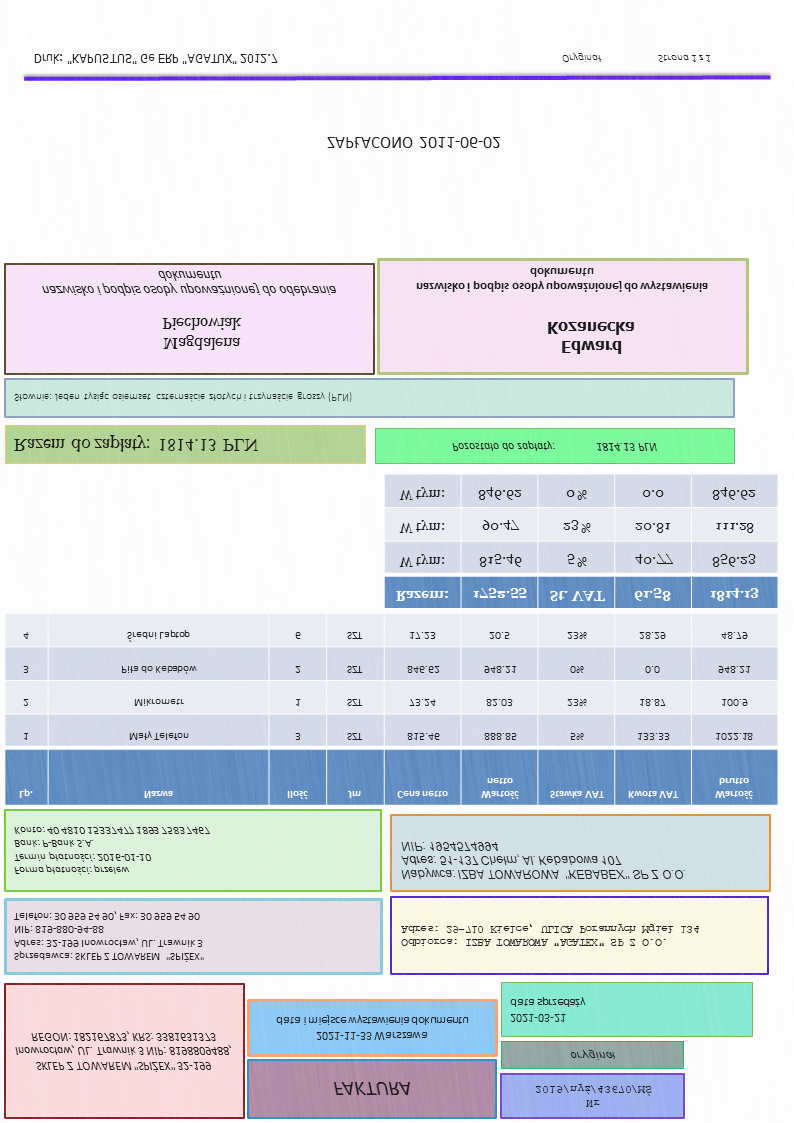Table: (1, 612, 780, 808), (382, 471, 781, 608)
TextBox: (395, 837, 692, 887), (10, 819, 213, 880), (10, 908, 206, 966), (412, 262, 713, 299), (10, 1027, 236, 1075), (397, 918, 704, 953), (37, 268, 341, 301), (8, 387, 357, 412), (272, 1013, 472, 1047), (8, 432, 258, 459), (27, 45, 281, 70), (322, 127, 508, 158), (448, 436, 663, 459), (544, 314, 638, 363), (532, 1078, 656, 1112), (158, 311, 244, 355), (505, 990, 588, 1030), (557, 50, 714, 70), (329, 1077, 412, 1102), (567, 1046, 619, 1063)
